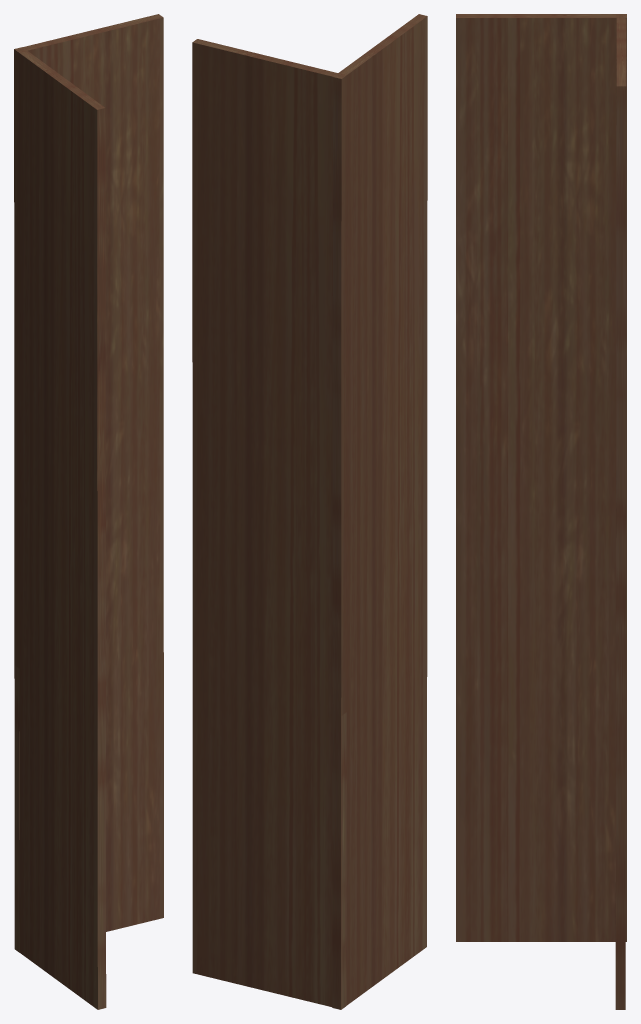
File: DTYDFittings.fbx_Corner.fbx
3 views of the same model, side by side, from view 1: azimuth 30°, elevation 25°; view 2: azimuth 150°, elevation 25°; view 3: azimuth 270°, elevation 25° (orthographic). The views are drawn at different scales.
Visible parts, largest first — view 1: Cube.106, Cube.105; view 2: Cube.105, Cube.106; view 3: Cube.106, Cube.105.
Boxes of the visible parts, x1,y1,x2,y2 form: Cube.106: [14, 47, 106, 1009]; Cube.105: [15, 14, 163, 952]; Cube.105: [192, 39, 346, 1009]; Cube.106: [332, 14, 427, 1009]; Cube.106: [456, 14, 626, 941]; Cube.105: [615, 14, 626, 1009].
Size of the model in its own units: 174 by 1033 by 173.
1 material, 1 textured.
